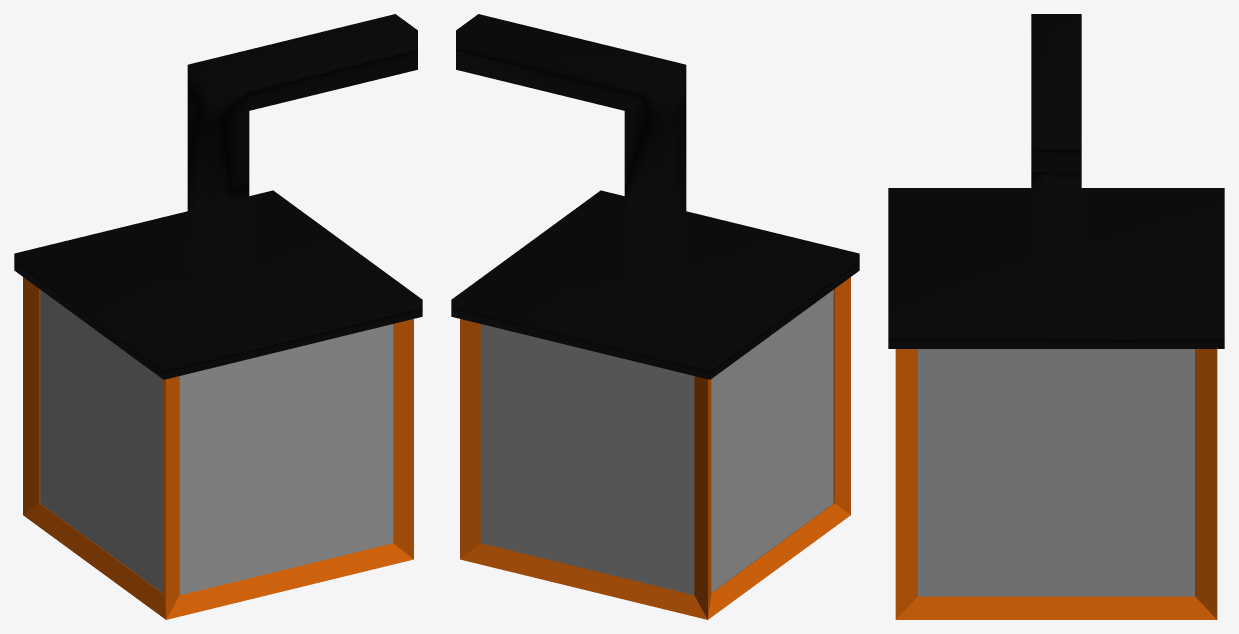
The model's file is uploads_files_2606705_outdoor+lamp+.fbx.
3 views of the same model, side by side, from view 1: azimuth 30°, elevation 25°; view 2: azimuth 150°, elevation 25°; view 3: azimuth 270°, elevation 25° (orthographic). The views are drawn at different scales.
Visible parts, largest first — view 1: Cube.001, Plane, Plane.003, Cube; view 2: Cube.001, Plane.002, Plane.003, Cube; view 3: Plane.001, Cube.001, Cube.
Boxes of the visible parts, left/top/right/bottom form: Cube.001: left=14, top=14, right=422, bottom=379; Plane: left=179, top=324, right=393, bottom=594; Plane.003: left=40, top=290, right=162, bottom=592; Cube: left=23, top=277, right=413, bottom=619; Cube.001: left=451, top=14, right=859, bottom=379; Plane.002: left=480, top=324, right=694, bottom=594; Plane.003: left=711, top=290, right=833, bottom=592; Cube: left=460, top=277, right=850, bottom=619; Plane.001: left=918, top=349, right=1194, bottom=596; Cube.001: left=888, top=14, right=1224, bottom=348; Cube: left=895, top=349, right=1217, bottom=619.
Bounding box in the file's own units: 285 × 403 × 233.
